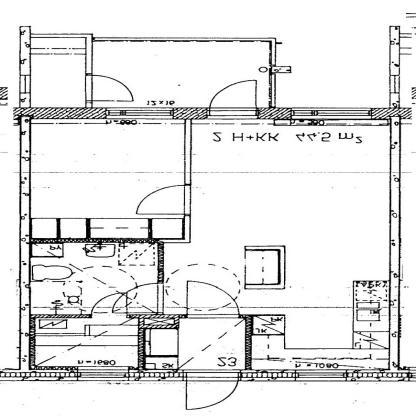door: (176, 366, 246, 414), (201, 78, 261, 124), (176, 279, 244, 319), (133, 181, 197, 220), (109, 281, 167, 320), (79, 71, 141, 103), (84, 291, 136, 321)
window: (99, 106, 184, 127), (283, 105, 376, 123), (285, 366, 353, 384), (65, 365, 135, 381), (14, 72, 34, 96)
